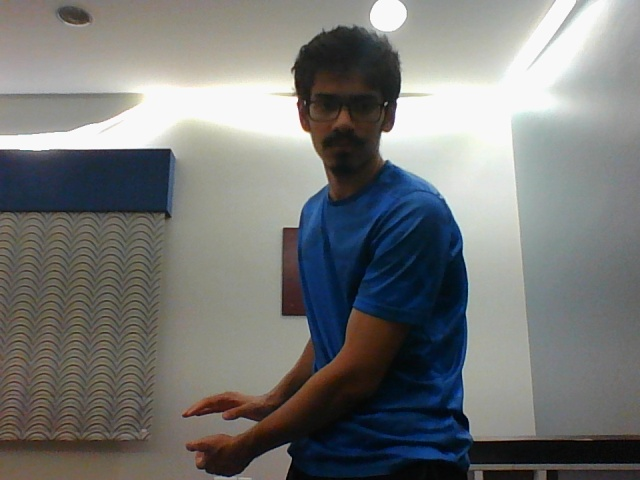charge: (177, 376, 269, 476)
